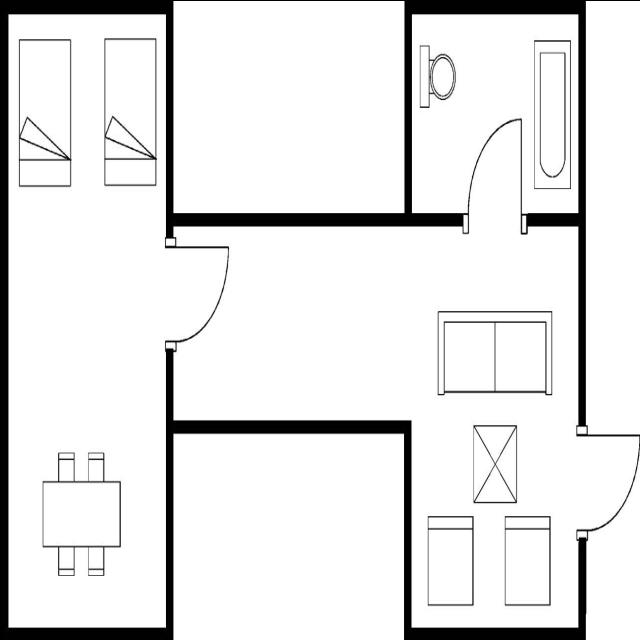bed: (100, 32, 160, 194), (16, 32, 74, 192)
coffee_table: (469, 421, 519, 507)
dining_table: (39, 448, 122, 580)
large_sink: (416, 39, 459, 113)
large_sofa: (434, 303, 555, 402)
small_sofa: (500, 510, 554, 610), (424, 510, 476, 610)
tub: (530, 34, 572, 195)
